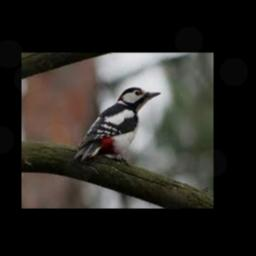Woodpecker: (74, 87, 161, 165)
